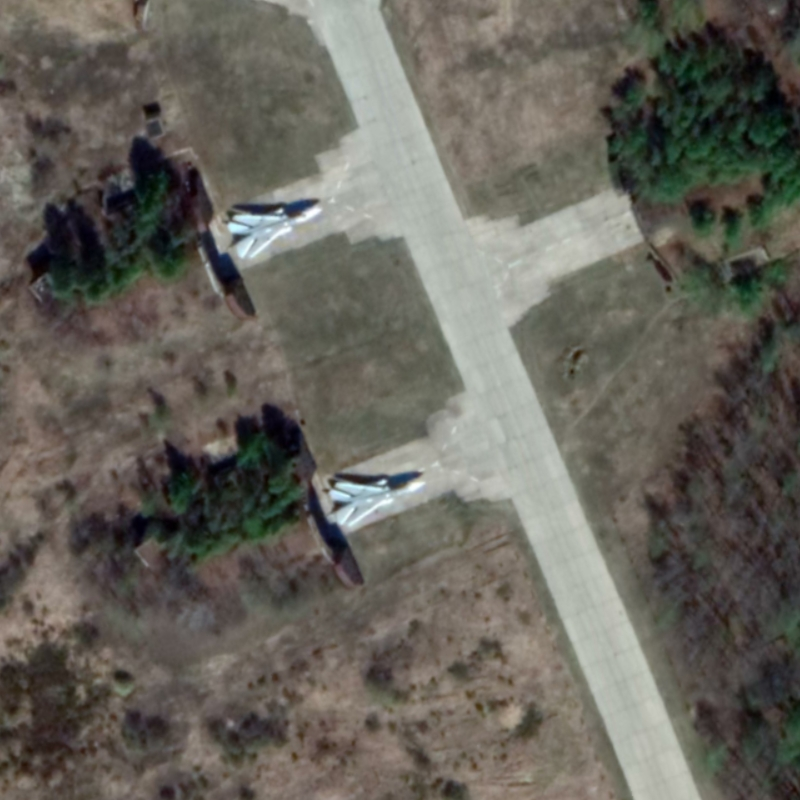A20: (225, 205, 325, 261), (327, 476, 428, 529)
